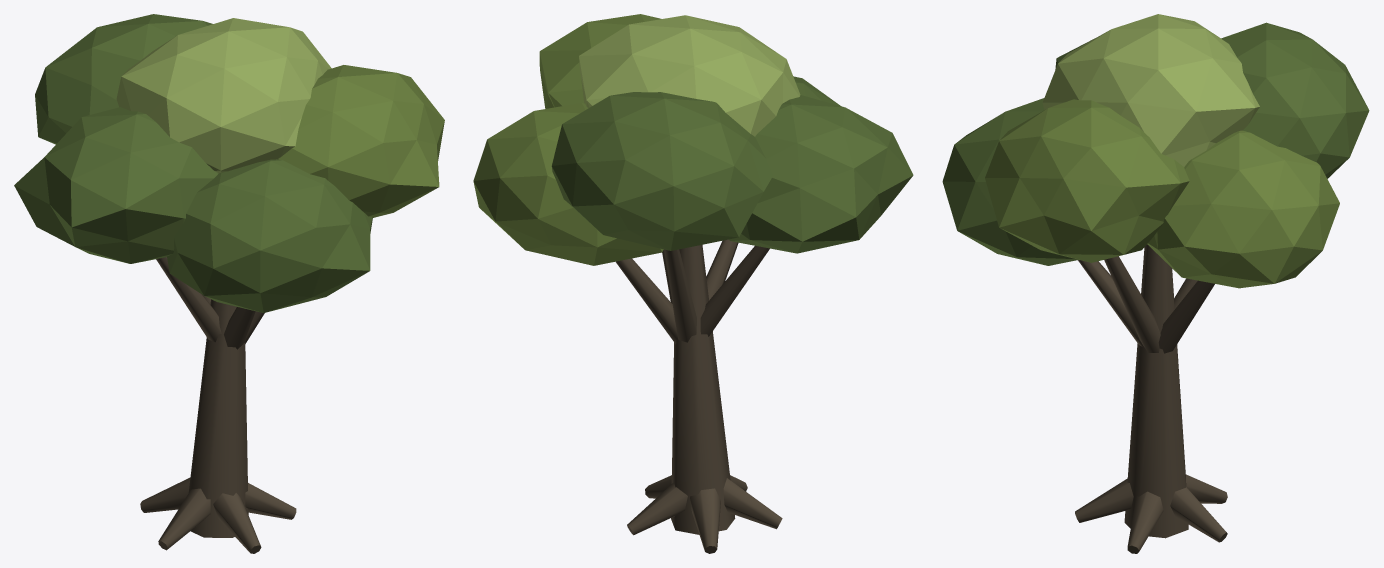
File: old_oak.glb
3 renders of one model, left to right at view 1: azimuth 30°, elevation 25°; view 2: azimuth 150°, elevation 25°; view 3: azimuth 270°, elevation 25°, orthographic. The views are drawn at different scales.
Parts seen in each view (by area): view 1: leaf_164, leafLight_173, leaf_168, moss_170, leaf_172, bark_157, bark_162, bark_158, bark_167, bark_159, bark_161, bark_163; view 2: leaf_172, leaf_168, leafLight_173, moss_166, bark_157, moss_170, bark_167, bark_171, bark_165, bark_161, bark_160, bark_162 (+1 smaller); view 3: moss_170, moss_166, leafLight_173, leaf_172, bark_157, leaf_164, bark_169, bark_165, bark_160, bark_159, bark_158, bark_163 (+1 smaller).
Boxes of the visible parts, x1=… form: leaf_164: x1=167, y1=159, x2=372, y2=312; leafLight_173: x1=116, y1=18, x2=331, y2=173; leaf_168: x1=14, y1=107, x2=218, y2=263; moss_170: x1=278, y1=65, x2=444, y2=217; leaf_172: x1=35, y1=14, x2=212, y2=144; bark_157: x1=188, y1=299, x2=248, y2=537; bark_162: x1=158, y1=488, x2=210, y2=550; bark_158: x1=213, y1=493, x2=261, y2=553; bark_167: x1=156, y1=257, x2=221, y2=342; bark_159: x1=245, y1=483, x2=296, y2=519; bark_161: x1=140, y1=477, x2=190, y2=512; bark_163: x1=224, y1=307, x2=255, y2=349; leaf_172: x1=551, y1=92, x2=773, y2=250; leaf_168: x1=729, y1=95, x2=913, y2=253; leafLight_173: x1=579, y1=15, x2=800, y2=136; moss_166: x1=473, y1=103, x2=663, y2=265; bark_157: x1=671, y1=244, x2=735, y2=534; moss_170: x1=539, y1=14, x2=660, y2=108; bark_167: x1=700, y1=246, x2=769, y2=336; bark_171: x1=665, y1=249, x2=696, y2=342; bark_165: x1=616, y1=258, x2=677, y2=344; bark_161: x1=690, y1=488, x2=720, y2=553; bark_160: x1=627, y1=482, x2=687, y2=535; bark_162: x1=723, y1=478, x2=782, y2=529; moss_170: x1=985, y1=99, x2=1189, y2=262; moss_166: x1=1147, y1=130, x2=1339, y2=288; leafLight_173: x1=1042, y1=14, x2=1259, y2=166; leaf_172: x1=1221, y1=22, x2=1369, y2=178; bark_157: x1=1124, y1=244, x2=1188, y2=538; leaf_164: x1=942, y1=98, x2=1078, y2=265; bark_169: x1=1104, y1=256, x2=1160, y2=352; bark_165: x1=1158, y1=280, x2=1214, y2=353; bark_160: x1=1170, y1=487, x2=1227, y2=542; bark_159: x1=1127, y1=491, x2=1163, y2=553; bark_158: x1=1075, y1=478, x2=1133, y2=522; bark_163: x1=1078, y1=260, x2=1143, y2=347.
Size of the model in its own units: 3 by 3.78 by 2.92.
